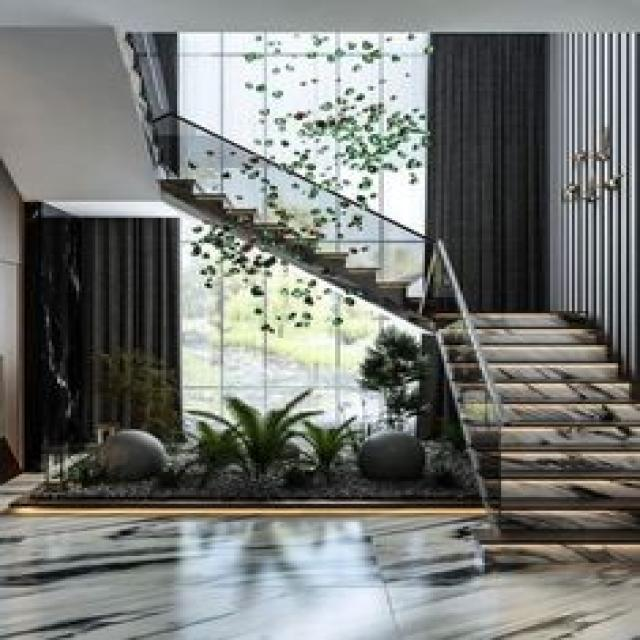stairs: (432, 306, 638, 547)
